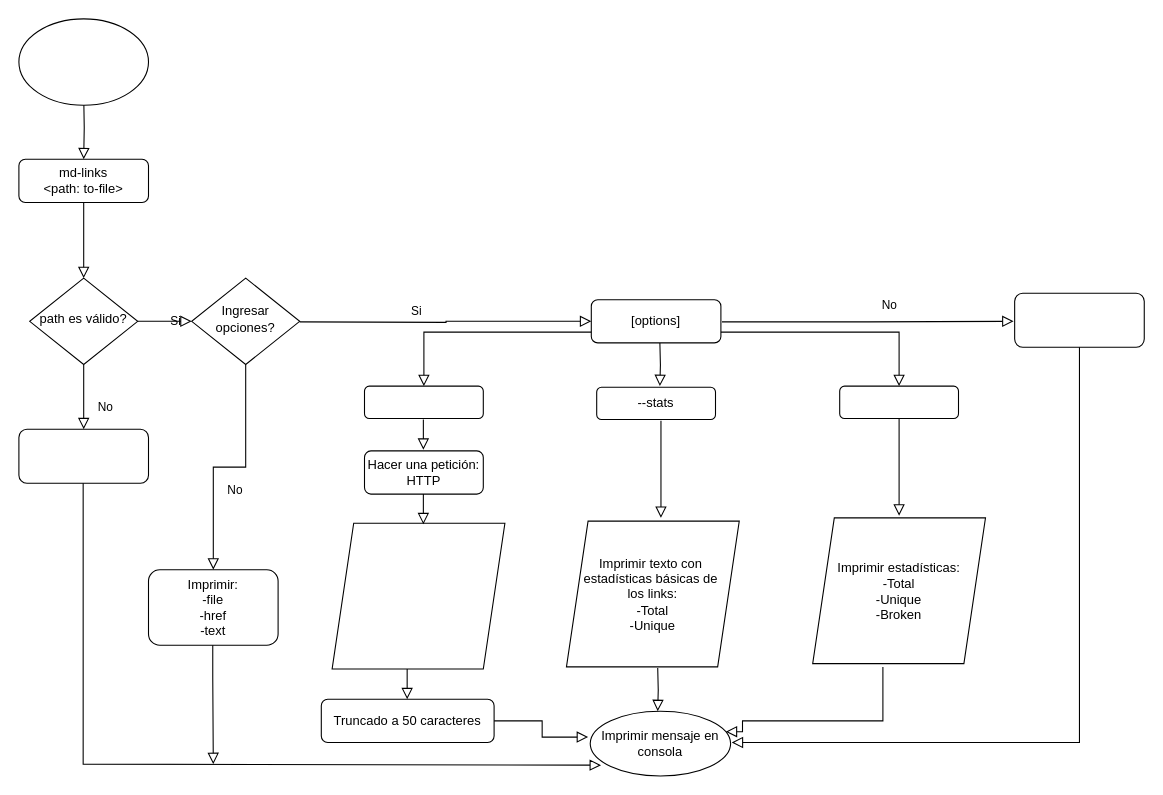
Image size: 1163x795. Some labels were removed from this diagram. The shapes that lost their labels are listed below. From the top down, each one's centre as x and y in pixels, then its label:
At (83,61): "INICIO".
At (1079,319): "Imprimir : -Text -Href".
At (423,401): "--validate".
At (899,401): "--validate --stats".
At (83,455): "Imprimir mensaje: el archivo no es válido.".
At (418,595): "Imprimir mensaje que muestre los links como: -ok/file -status -href -file".
